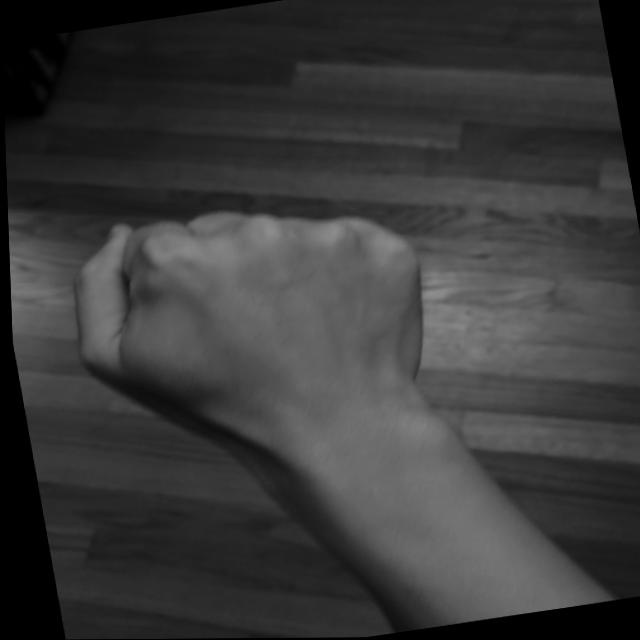A: (45, 173, 455, 484)
